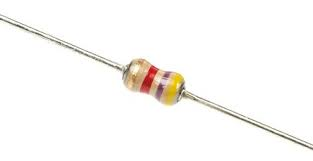resistor: (105, 46, 199, 113)
